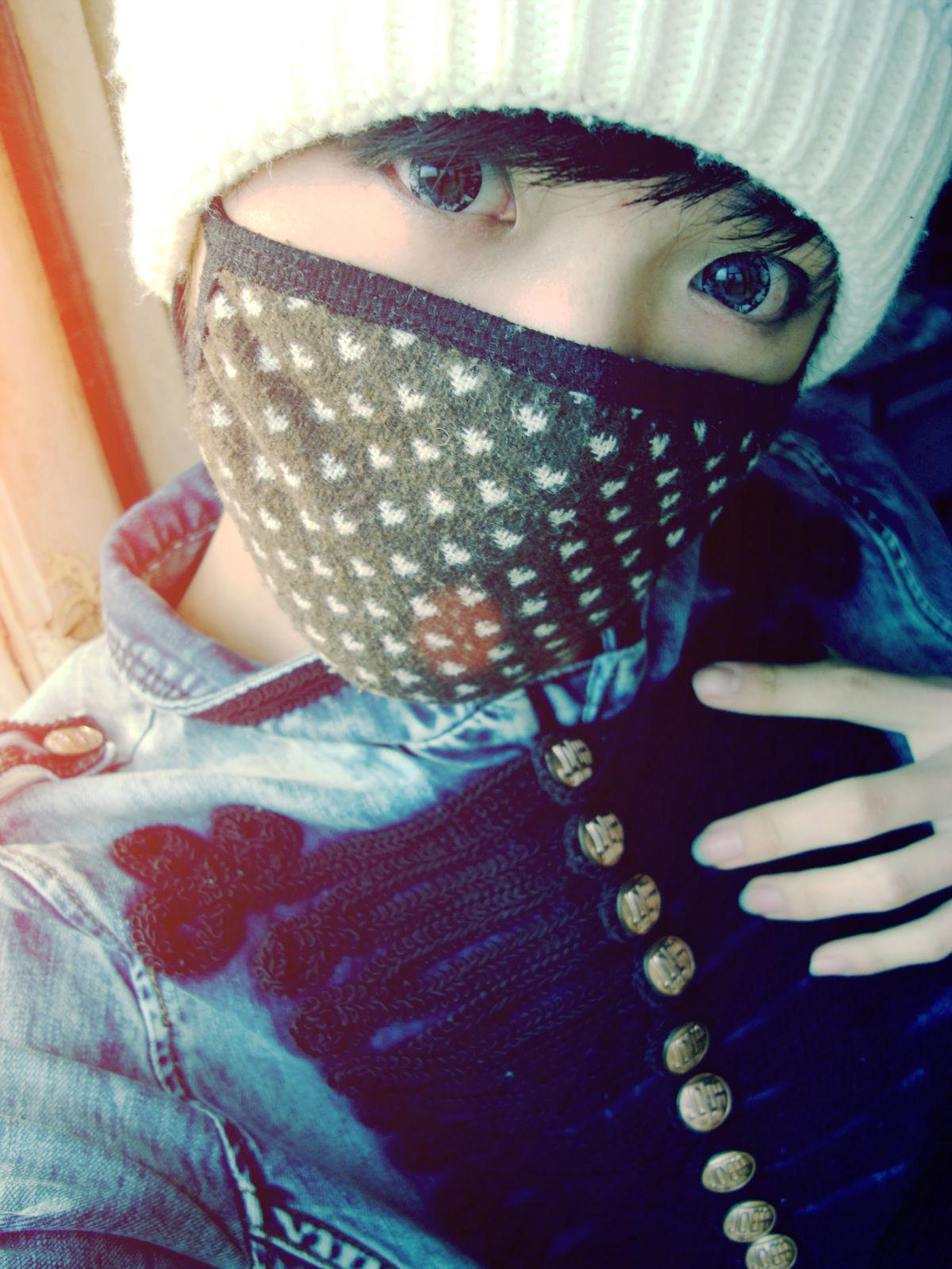OK: (218, 67, 844, 693)
